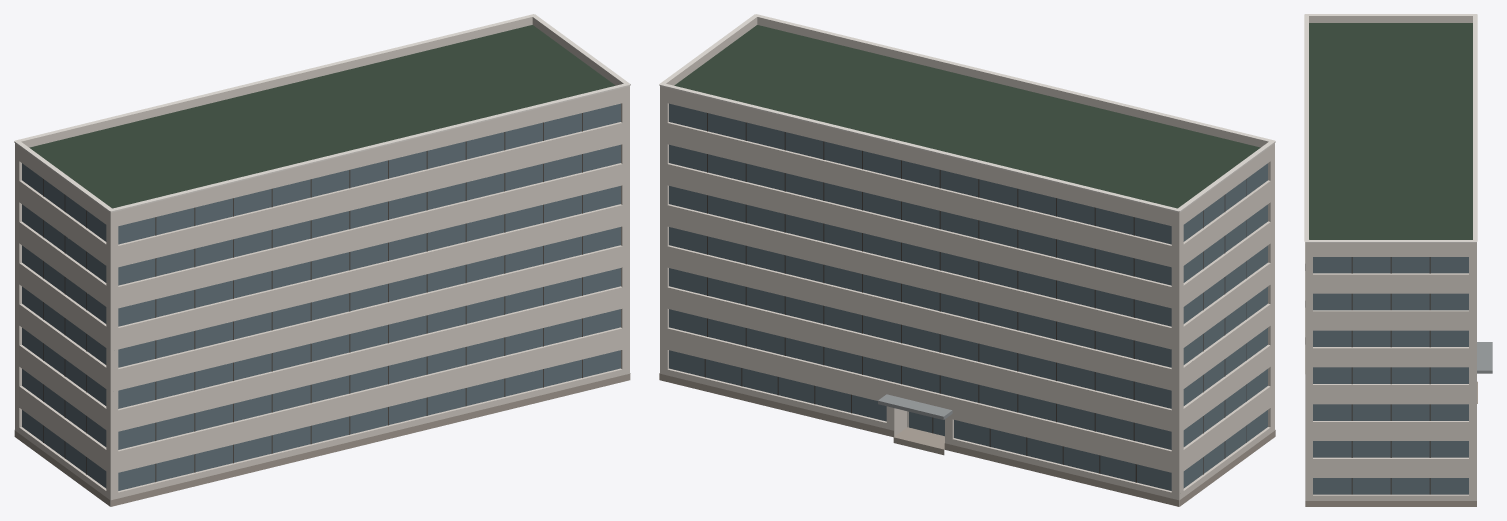
3 views of the same model, side by side, from view 1: azimuth 30°, elevation 25°; view 2: azimuth 150°, elevation 25°; view 3: azimuth 270°, elevation 25° (orthographic). The views are drawn at different scales.
Visible parts, largest first — view 1: samsungDorm__wall, samsungDorm__glass, samsungDorm__roof, samsungDorm__parapet, samsungDorm__trim, samsungDorm__base, samsungDorm__frame; view 2: samsungDorm__wall, samsungDorm__glass, samsungDorm__roof, samsungDorm__parapet, samsungDorm__trim, samsungDorm__base, samsungDorm__frame, samsungDorm__canopy; view 3: samsungDorm__roof, samsungDorm__wall, samsungDorm__glass, samsungDorm__trim, samsungDorm__parapet, samsungDorm__base, samsungDorm__frame, samsungDorm__canopy.
Part boxes in pixels (x1,y1,x2,y2): samsungDorm__wall: (15,92,629,506); samsungDorm__glass: (22,103,620,490); samsungDorm__roof: (29,25,615,208); samsungDorm__parapet: (15,17,629,218); samsungDorm__trim: (14,14,630,212); samsungDorm__base: (14,373,630,506); samsungDorm__frame: (43,113,582,482); samsungDorm__wall: (660,92,1274,506); samsungDorm__glass: (669,103,1267,490); samsungDorm__roof: (674,25,1260,208); samsungDorm__parapet: (660,17,1274,218); samsungDorm__trim: (659,14,1275,212); samsungDorm__base: (659,373,1275,506); samsungDorm__frame: (704,113,1246,482); samsungDorm__canopy: (878,394,952,419); samsungDorm__roof: (1309,23,1472,239); samsungDorm__wall: (1305,242,1476,500); samsungDorm__glass: (1313,257,1468,494); samsungDorm__trim: (1304,14,1477,242); samsungDorm__parapet: (1305,16,1476,248); samsungDorm__base: (1305,381,1477,506); samsungDorm__frame: (1351,257,1430,494); samsungDorm__canopy: (1477,342,1492,373).
Bounding box in the file's own units: 41.11 × 22.7 × 14.36.
